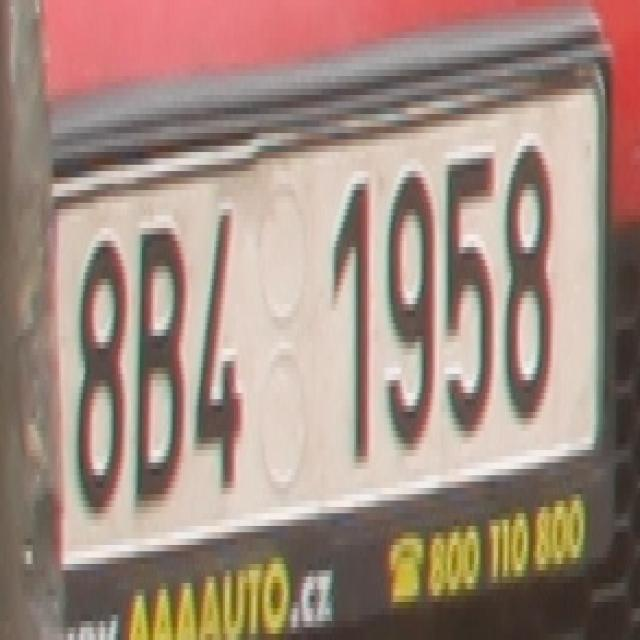1: (332, 158, 374, 476)
4: (194, 196, 244, 488)
5: (443, 146, 496, 437)
8: (76, 222, 125, 513), (502, 140, 550, 418)
9: (384, 164, 432, 443)
B: (138, 216, 190, 494)
